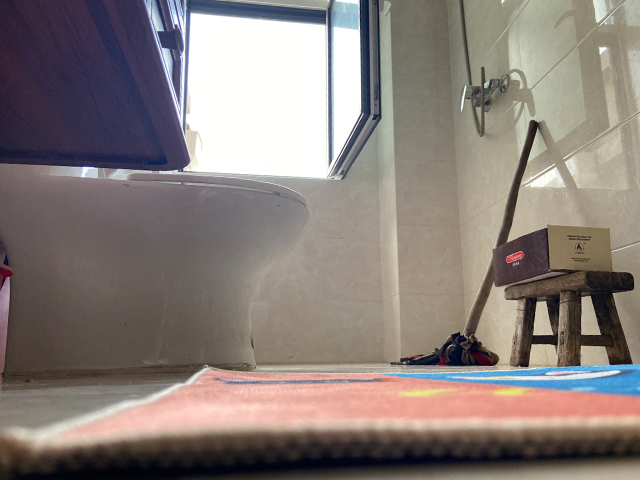carpet: (1, 362, 640, 478)
closestool: (1, 163, 311, 379)
stool: (503, 271, 637, 368)
